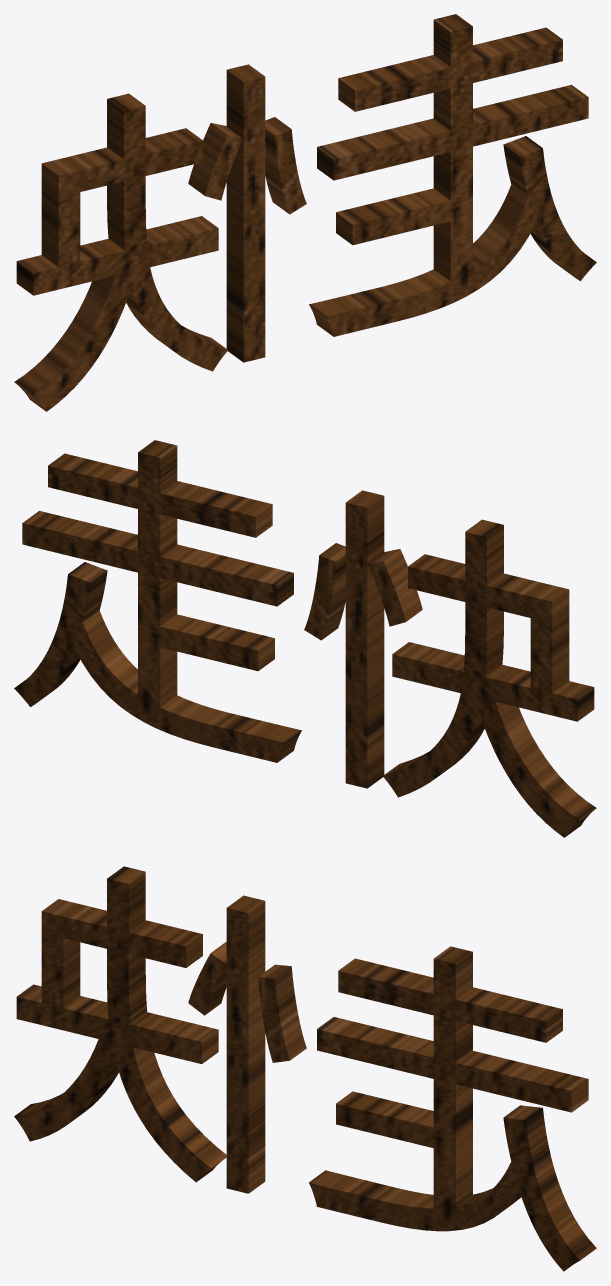
The model's file is Title.obj.
3 views of the same model, one above another, from view 1: azimuth 30°, elevation 25°; view 2: azimuth 150°, elevation 25°; view 3: azimuth 330°, elevation 25° (orthographic).
Visible parts, largest first — view 1: 立方体.001; view 2: 立方体.001; view 3: 立方体.001.
Boxes of the visible parts, bbox=[...] form: 立方体.001: bbox=[14, 14, 596, 411]; 立方体.001: bbox=[14, 440, 596, 837]; 立方体.001: bbox=[14, 866, 596, 1271].
Bounding box in the file's own units: 5.82 × 2.77 × 0.3.
Materials: 1 (1 with a texture image).
